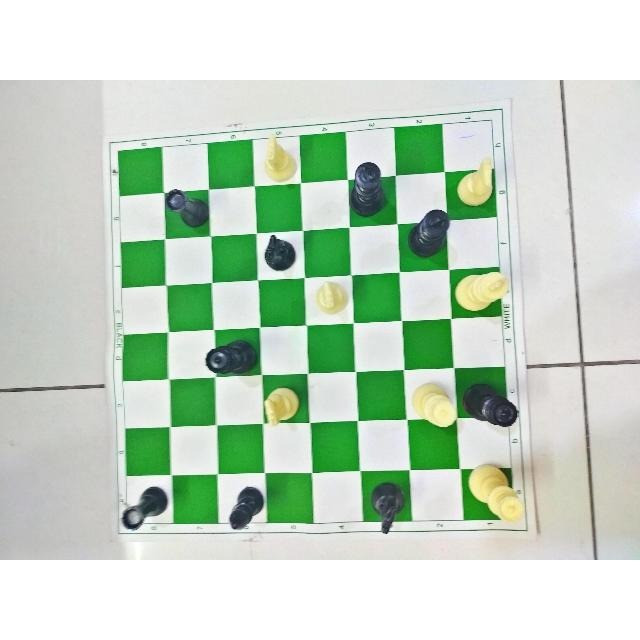black-bishop: (227, 484, 264, 532)
black-king: (406, 209, 452, 259), (350, 161, 388, 217)
black-knight: (369, 480, 404, 535), (263, 233, 297, 272)
black-queen: (462, 382, 518, 427), (203, 337, 258, 376)
black-rook: (121, 484, 168, 531), (165, 187, 208, 229)
white-king: (454, 269, 510, 312)
white-knight: (456, 157, 494, 207), (263, 131, 297, 182), (263, 387, 300, 427), (315, 280, 349, 316)
white-queen: (467, 463, 526, 523), (411, 382, 458, 430)
